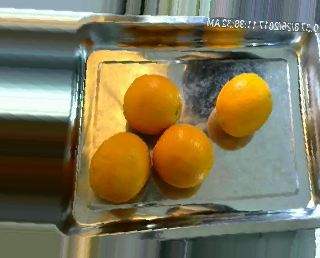Orange: (88, 132, 150, 202), (152, 122, 214, 187), (215, 72, 272, 138), (122, 74, 181, 133)
